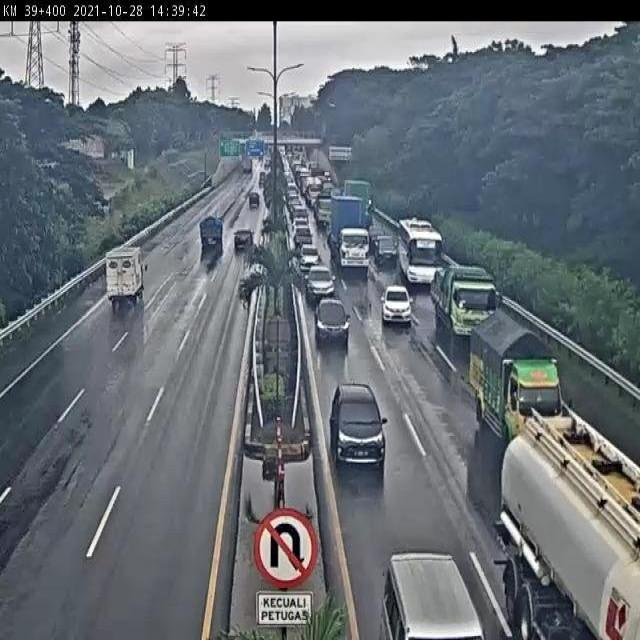big bus: (398, 219, 438, 284)
big truck: (328, 191, 367, 268)
car: (324, 370, 382, 450), (310, 294, 349, 342), (379, 288, 411, 323), (304, 260, 332, 299), (225, 236, 252, 263), (375, 231, 398, 260), (297, 236, 320, 263), (242, 197, 259, 219)
mid truck: (429, 261, 496, 332)
small truck: (89, 250, 138, 322), (195, 219, 220, 257)
truck-m-: (468, 309, 566, 451)
